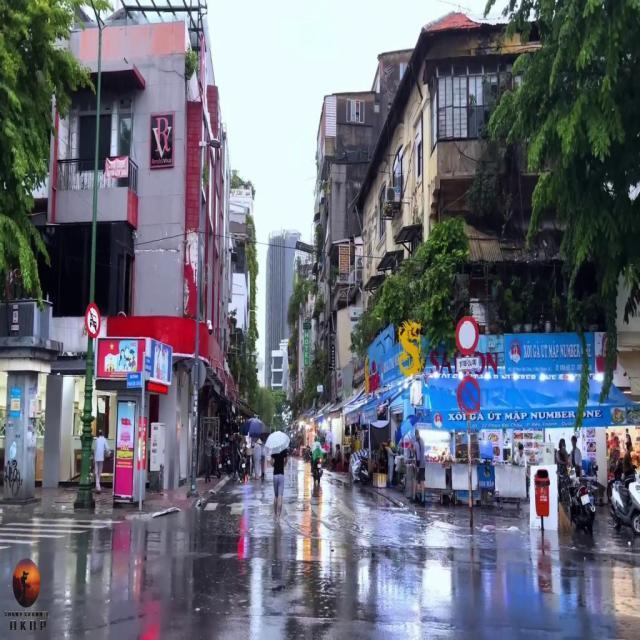103a-cam-oto: (83, 302, 101, 338)
131a-cam-do-xe: (458, 376, 480, 414)
